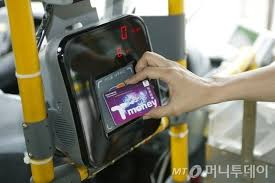terminal: (38, 12, 175, 171)
